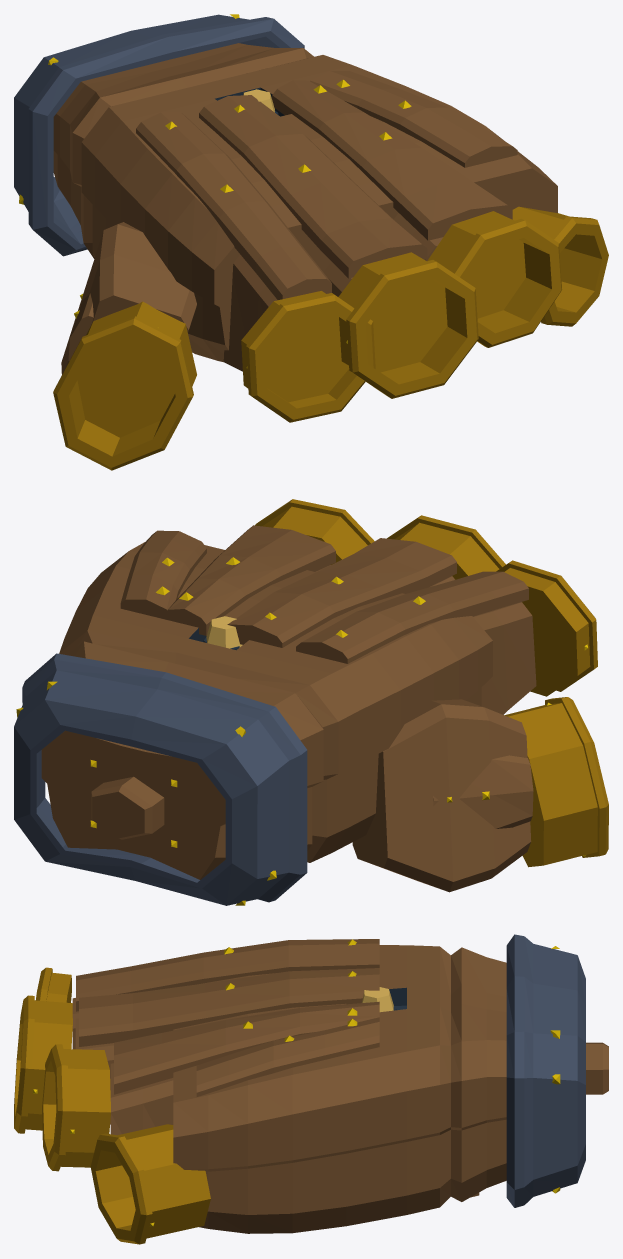
File: palm-gear-disc-99663a.glb
The picture shows the model from 3 angles, top to bottom: view 1: azimuth 30°, elevation 25°; view 2: azimuth 150°, elevation 25°; view 3: azimuth 270°, elevation 25°; orthographic projection. The views are drawn at different scales.
Parts seen in each view (by area): view 1: middle-finger-metacarpal, index-finger-metacarpal, thumb-metacarpal, ring-finger-metacarpal, wrist, pinky-finger-metacarpal; view 2: middle-finger-metacarpal, wrist, thumb-metacarpal, index-finger-metacarpal, ring-finger-metacarpal, pinky-finger-metacarpal; view 3: middle-finger-metacarpal, wrist, ring-finger-metacarpal, pinky-finger-metacarpal, index-finger-metacarpal.
Boxes of the visible parts, x1,y1,x2,y2 form: middle-finger-metacarpal: (53, 43, 557, 398); index-finger-metacarpal: (136, 112, 375, 422); thumb-metacarpal: (53, 222, 196, 470); ring-finger-metacarpal: (272, 80, 562, 347); wrist: (14, 14, 304, 256); pinky-finger-metacarpal: (310, 71, 608, 326); middle-finger-metacarpal: (41, 515, 505, 879); wrist: (14, 653, 307, 905); thumb-metacarpal: (352, 697, 608, 892); index-finger-metacarpal: (296, 560, 597, 714); ring-finger-metacarpal: (163, 499, 374, 635); pinky-finger-metacarpal: (120, 530, 206, 618); middle-finger-metacarpal: (14, 945, 608, 1233); wrist: (506, 934, 585, 1207); ring-finger-metacarpal: (42, 1001, 379, 1171); pinky-finger-metacarpal: (90, 1017, 379, 1244); index-finger-metacarpal: (35, 939, 379, 1049).
Bounding box in the file's own units: 0.1131 × 0.0531 × 0.1197.
